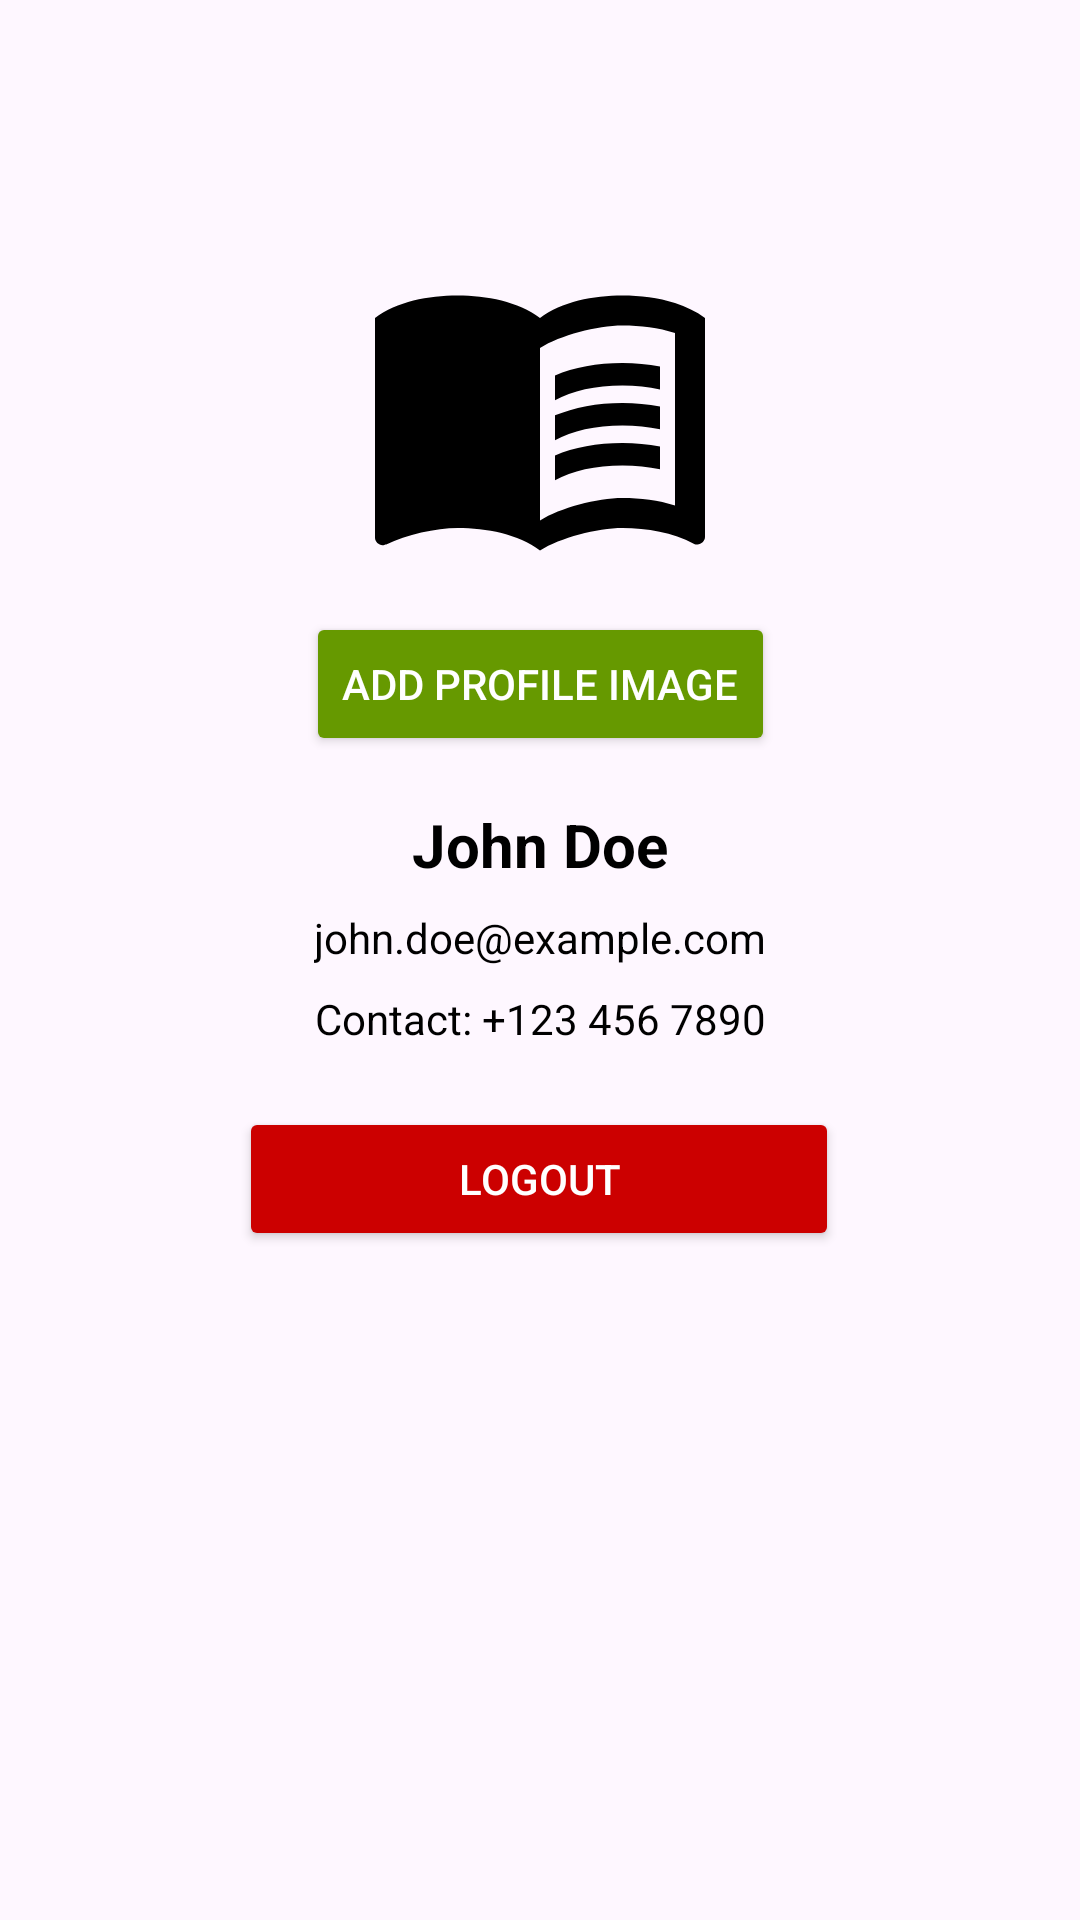

Named icons in this screenshot (1080px×1920px) and their centers, (x,y):
book: (540,423)
